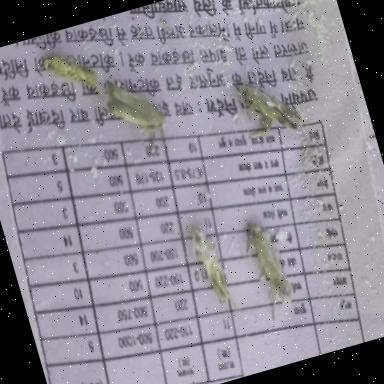pbw: (238, 216, 300, 325), (234, 68, 308, 144), (188, 224, 238, 318), (101, 74, 168, 140), (44, 47, 100, 97)
